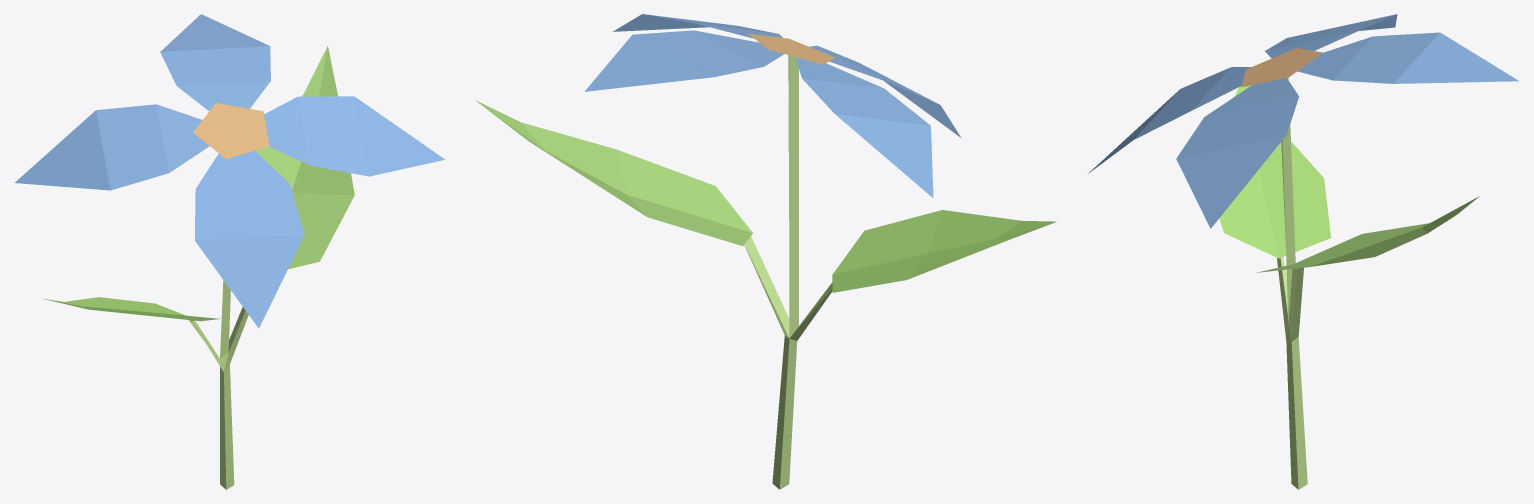
Rendered from Flower_a_OneS_11.fbx.
3 views of the same model, side by side, from view 1: azimuth 30°, elevation 25°; view 2: azimuth 150°, elevation 25°; view 3: azimuth 270°, elevation 25° (orthographic). The views are drawn at different scales.
Visible parts, largest first — view 1: Flower_a_OneS_11; view 2: Flower_a_OneS_11; view 3: Flower_a_OneS_11.
Part boxes in pixels (left/top/right/bottom): Flower_a_OneS_11: left=15, top=14, right=445, bottom=489; Flower_a_OneS_11: left=475, top=14, right=1056, bottom=489; Flower_a_OneS_11: left=1088, top=14, right=1519, bottom=489.
Size of the model in its own units: 60.31 by 57.75 by 50.37.
